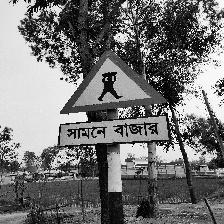Market-in-front: (57, 50, 171, 147)
